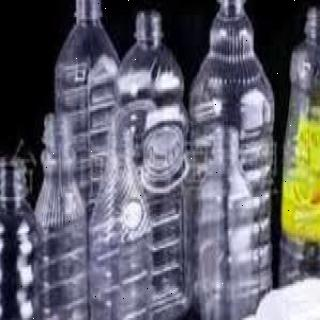Plastic-bottle: (190, 5, 275, 320), (121, 10, 196, 320), (88, 109, 162, 320), (37, 109, 91, 320), (282, 7, 320, 293), (53, 1, 121, 126), (2, 152, 45, 320)
